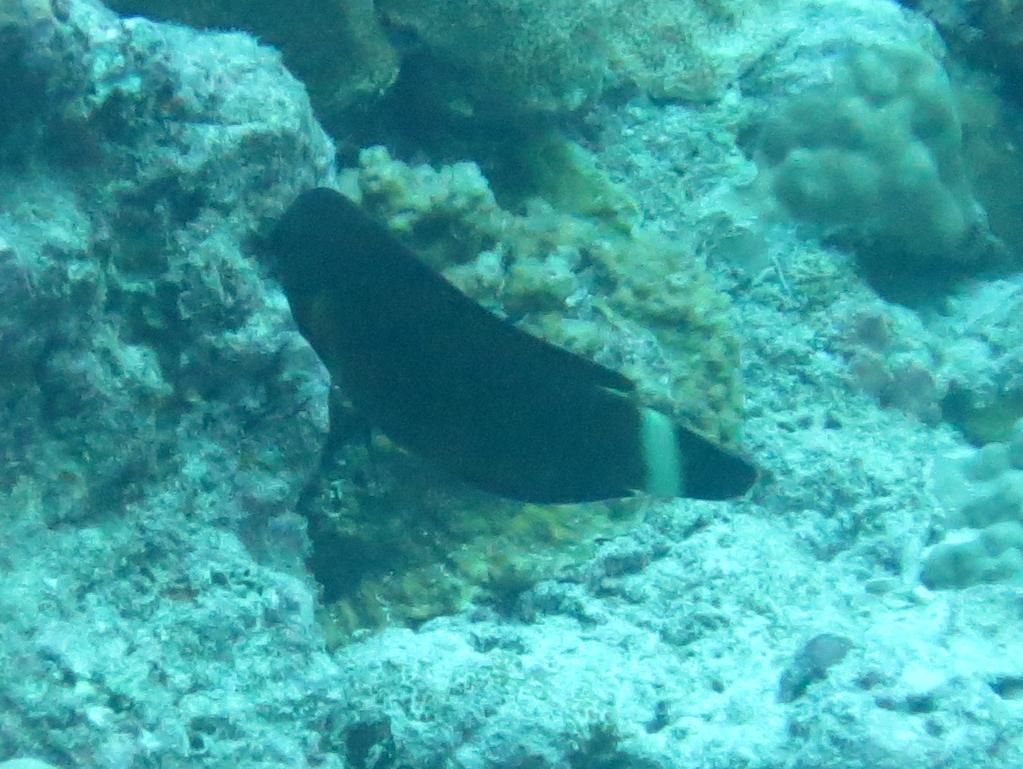Fish: (145, 167, 868, 561)
